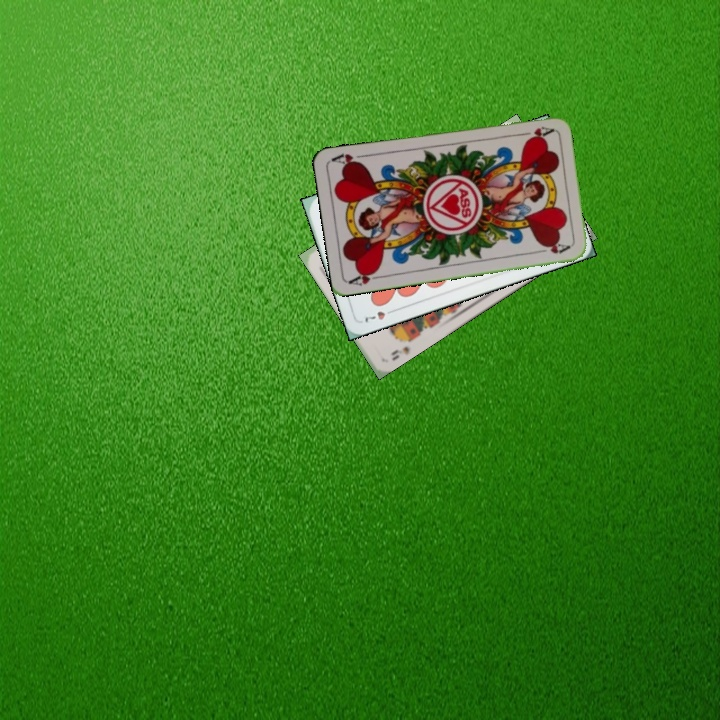H7: (361, 305, 398, 325)
HA: (346, 266, 386, 288), (515, 122, 555, 141)
S9: (387, 334, 418, 363)
